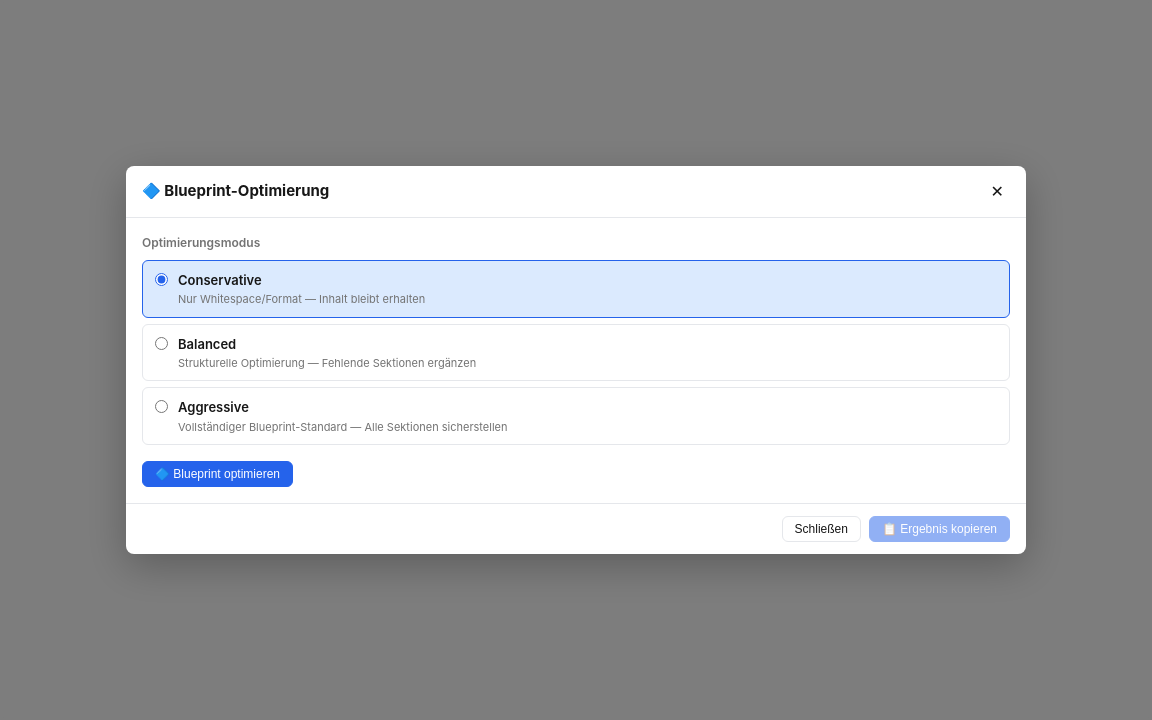
Test: BlueprintOptimizationPanel › mode selection › updates selected mode when clicking balanced
The image size is (1152, 720).
Note: Find the balanced label and click it
Click the text "Balanced".
click(207, 344)  # box [178, 336, 236, 352]
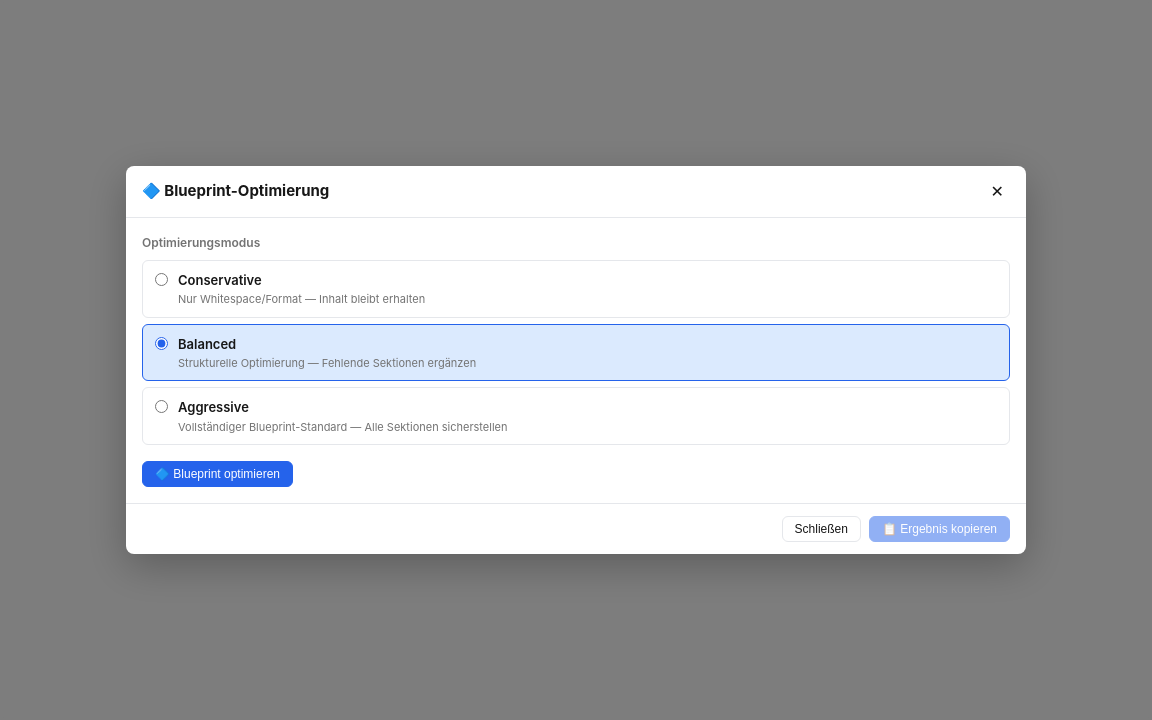
Result: the radio button named "blueprintOptimizationMode" is checked at [155, 337, 168, 350]
